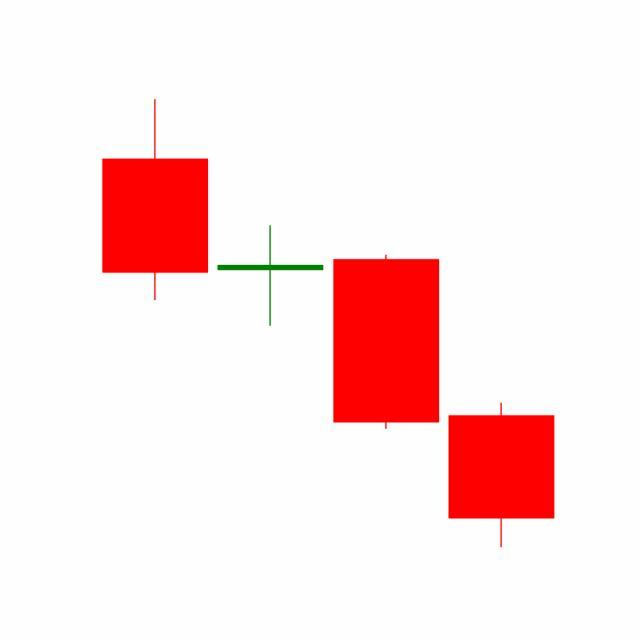Three Outside Up-Down: (211, 221, 555, 548)
